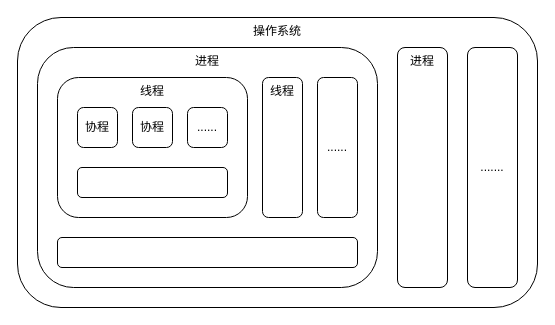
Image size: 555x325. Some labels were removed from this diagram. Here are the shapes that lost their labels. From the top down, the centre of each, then its label:
pixel 152 182: 栈、寄存器
pixel 207 252: 共享内存、资源
